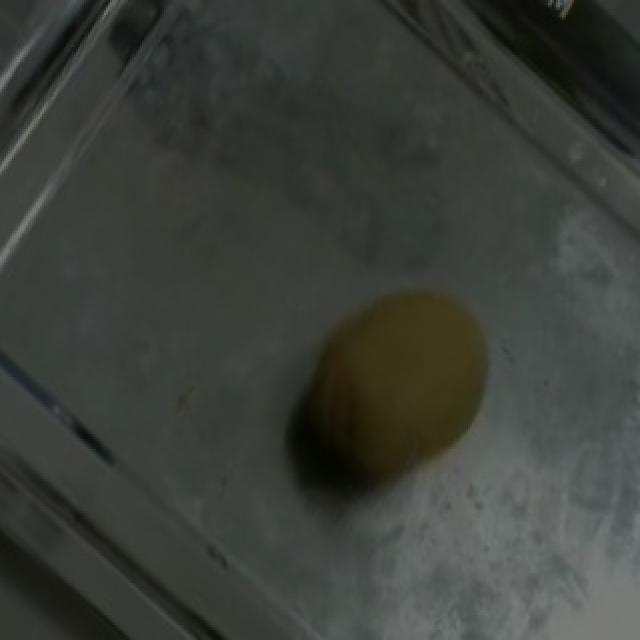Fruit: (256, 251, 528, 511)
